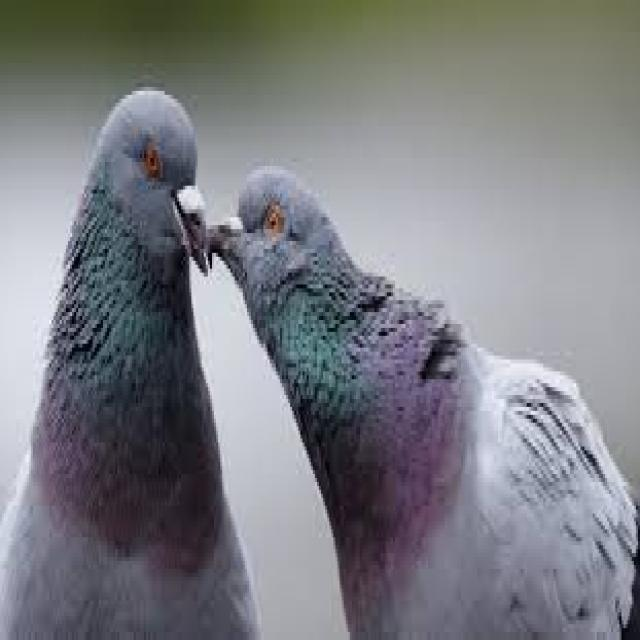Pigeon: (217, 133, 640, 640), (3, 89, 272, 640)
